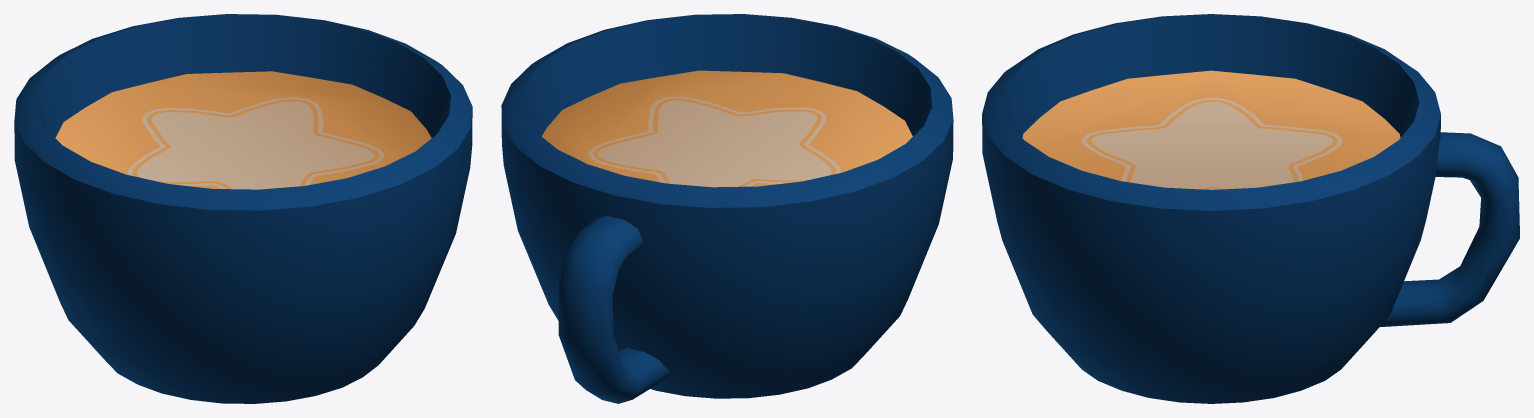
The model's file is Cofe Cup Star_2.fbx.
The picture shows the model from 3 angles, left to right: view 1: azimuth 30°, elevation 25°; view 2: azimuth 150°, elevation 25°; view 3: azimuth 270°, elevation 25°; orthographic projection.
Visible parts, largest first — view 1: Cofe Cup Star_2; view 2: Cofe Cup Star_2; view 3: Cofe Cup Star_2.
Part boxes in pixels (x1,y1,x2,y2): Cofe Cup Star_2: (14, 14, 472, 403); Cofe Cup Star_2: (501, 14, 953, 403); Cofe Cup Star_2: (982, 14, 1519, 403).
Size of the model in its own units: 0.1 by 0.0579 by 0.1172.
